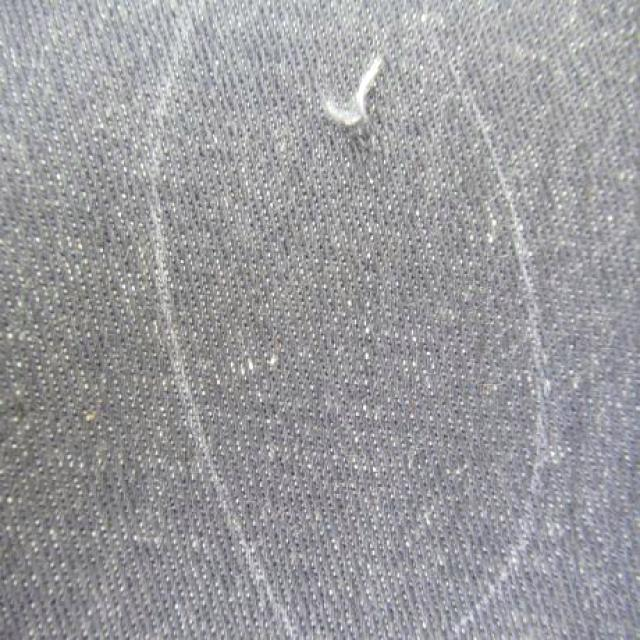stains: (286, 34, 422, 164)
